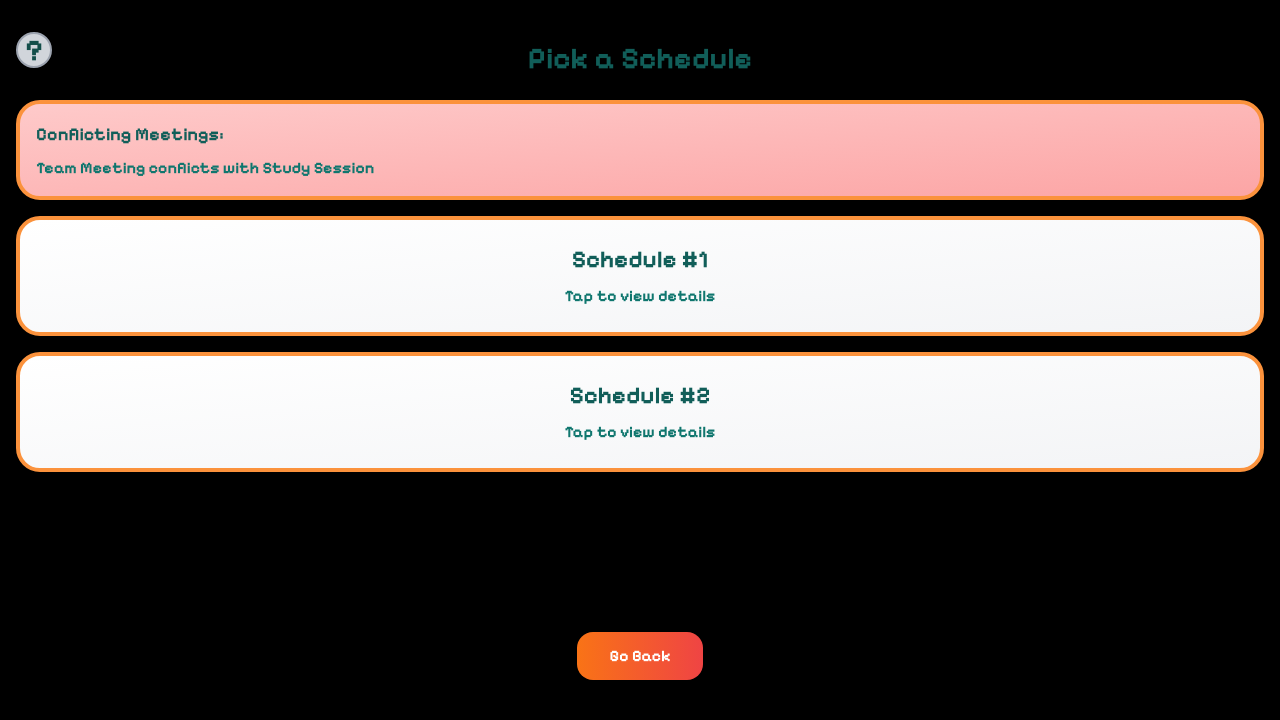
Scenario: SchedulePicker Component › opens modal when schedule button is clicked
Click the button with test id "schedule-button-1". click: (640, 276)
box: [16,216,1264,336]
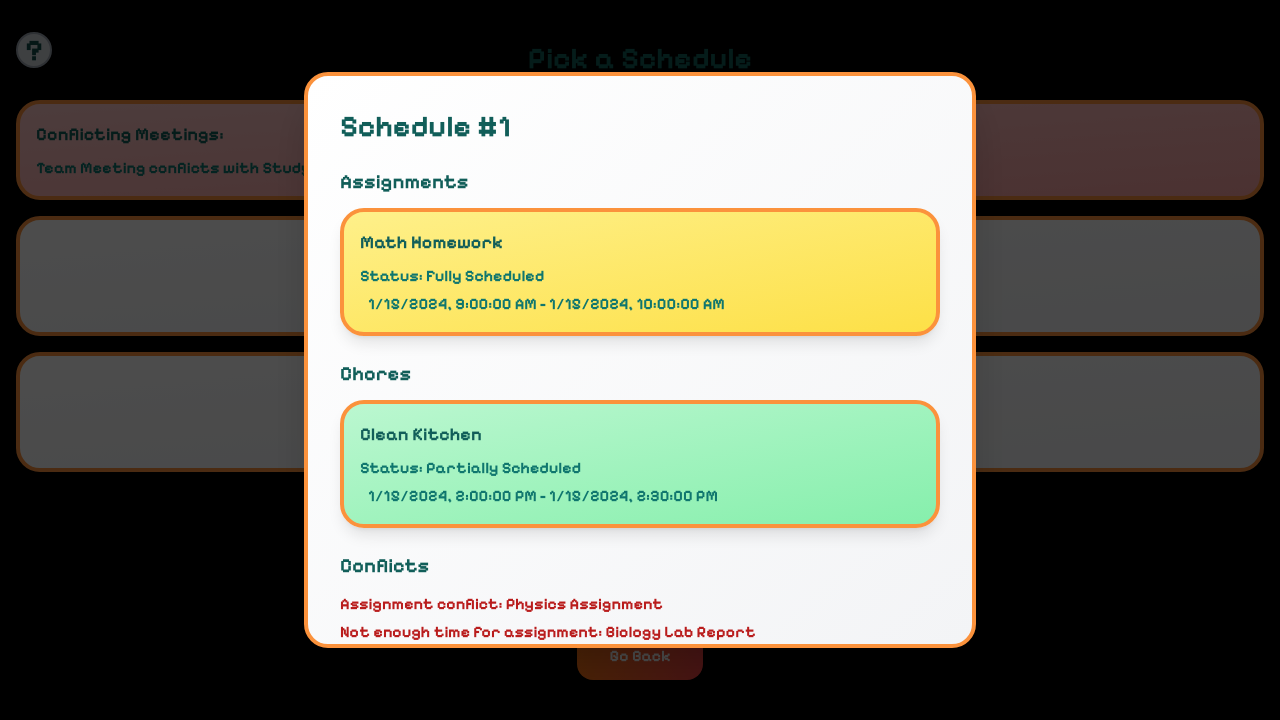
Expected: the element with test id "schedule-modal" is shown
